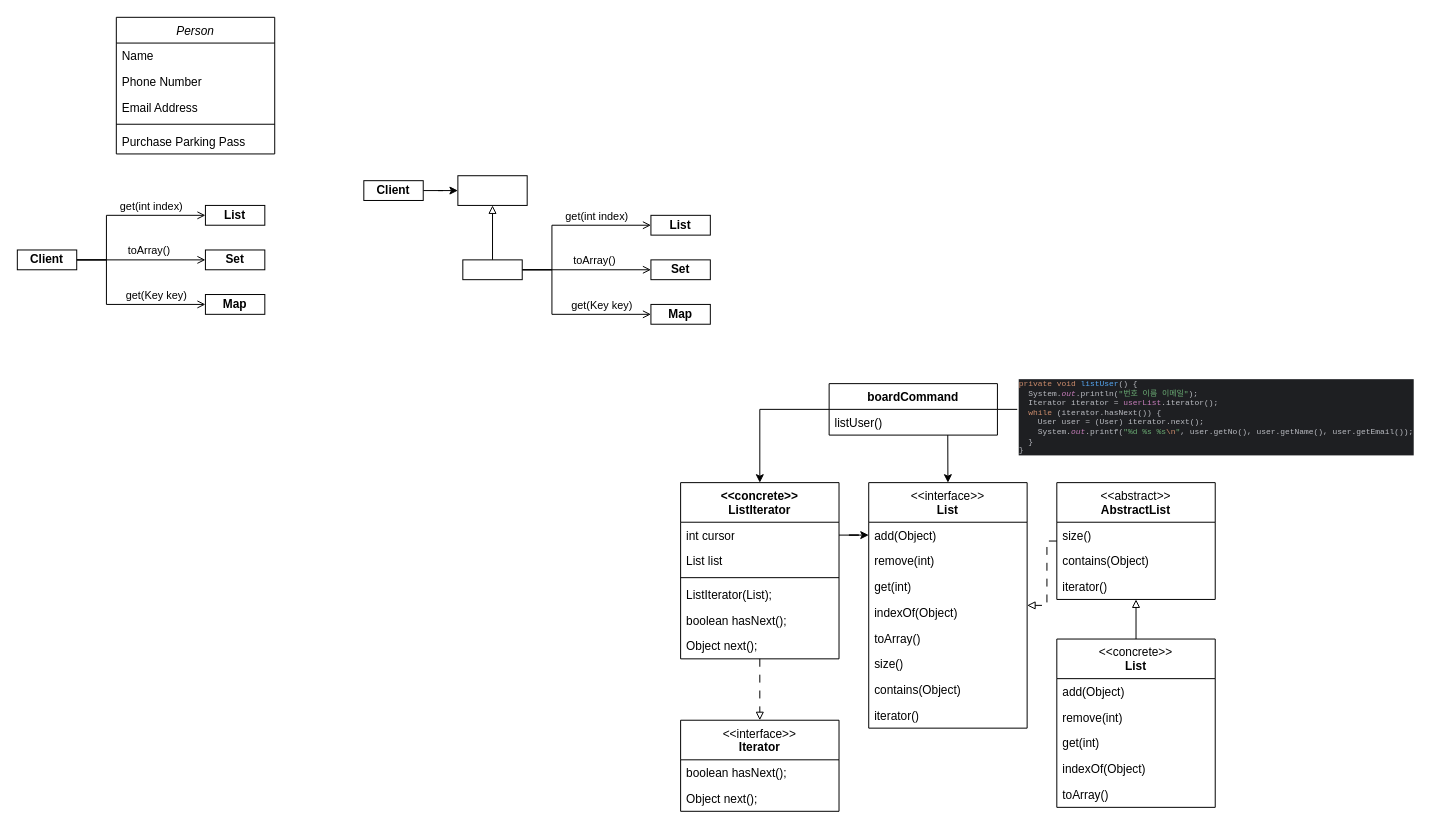
Image size: 1432x832. Some labels were removed from this diagram. Here are the shapes that lost their labels. From the top down, the centre of each, then its label:
At point (492, 190): "«interface» Iterator".
At point (492, 269): "Object".
